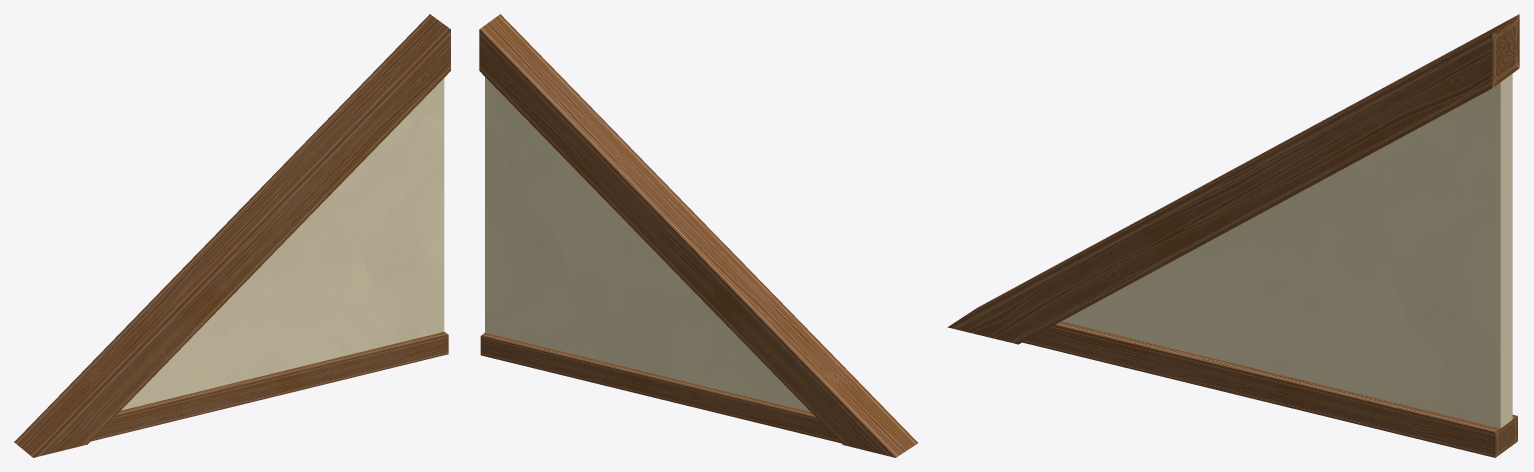
File: SM_Roof_Wall_wcream.glb
3 views of the same model, side by side, from view 1: azimuth 30°, elevation 25°; view 2: azimuth 150°, elevation 25°; view 3: azimuth 330°, elevation 25° (orthographic). The views are drawn at different scales.
Visible parts, largest first — view 1: SM_Roof_Wall; view 2: SM_Roof_Wall; view 3: SM_Roof_Wall.
Part boxes in pixels (left/top/right/bottom): SM_Roof_Wall: left=14, top=14, right=450, bottom=457; SM_Roof_Wall: left=479, top=14, right=917, bottom=457; SM_Roof_Wall: left=947, top=14, right=1519, bottom=457.
Size of the model in its own units: 4.02 by 3.01 by 0.349.
2 materials, 2 textured.
